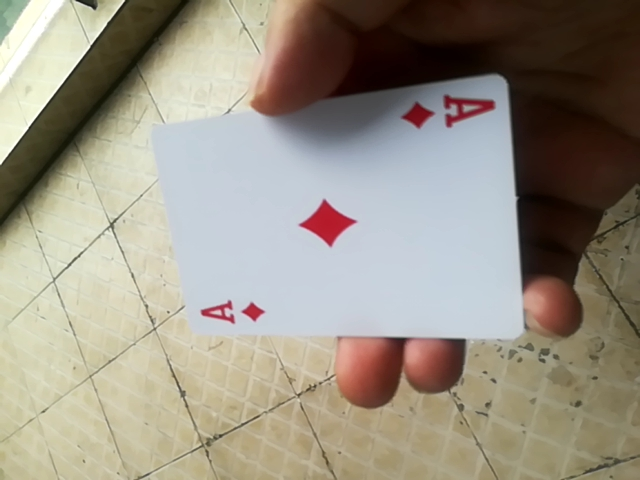fk a: (156, 78, 519, 346)
